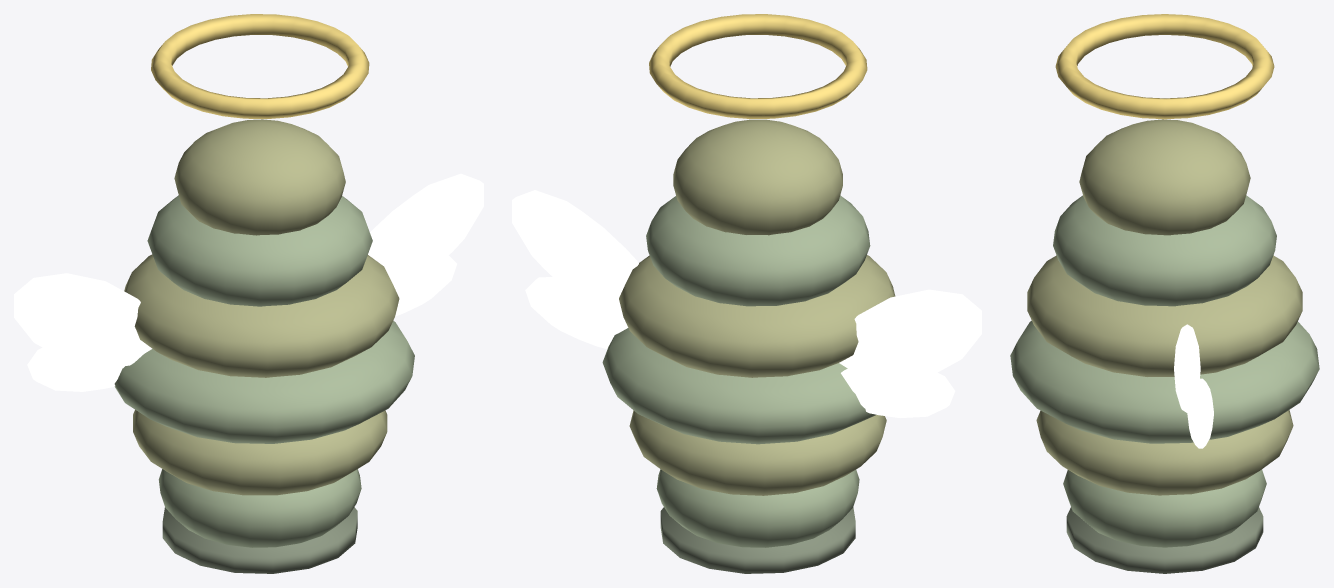
File: egg_prehistoric_06.glb
The picture shows the model from 3 angles, left to right: view 1: azimuth 30°, elevation 25°; view 2: azimuth 150°, elevation 25°; view 3: azimuth 270°, elevation 25°; orthographic projection.
Visible parts, largest first — view 1: ball; view 2: ball; view 3: ball.
Boxes of the visible parts, <box> form: ball: <box>14,14,483,573</box>; ball: <box>512,14,981,573</box>; ball: <box>1010,14,1319,573</box>.
Bounding box in the file's own units: 1.2 × 1.17 × 0.6922.
